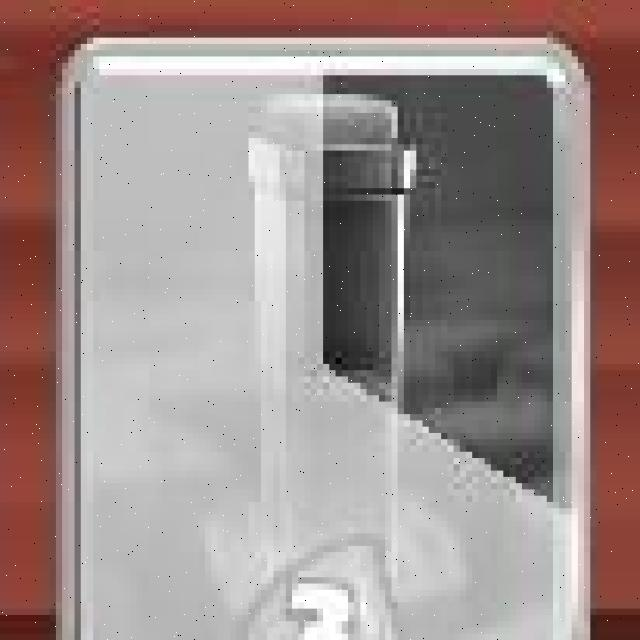Earthquake: (55, 37, 587, 640)
